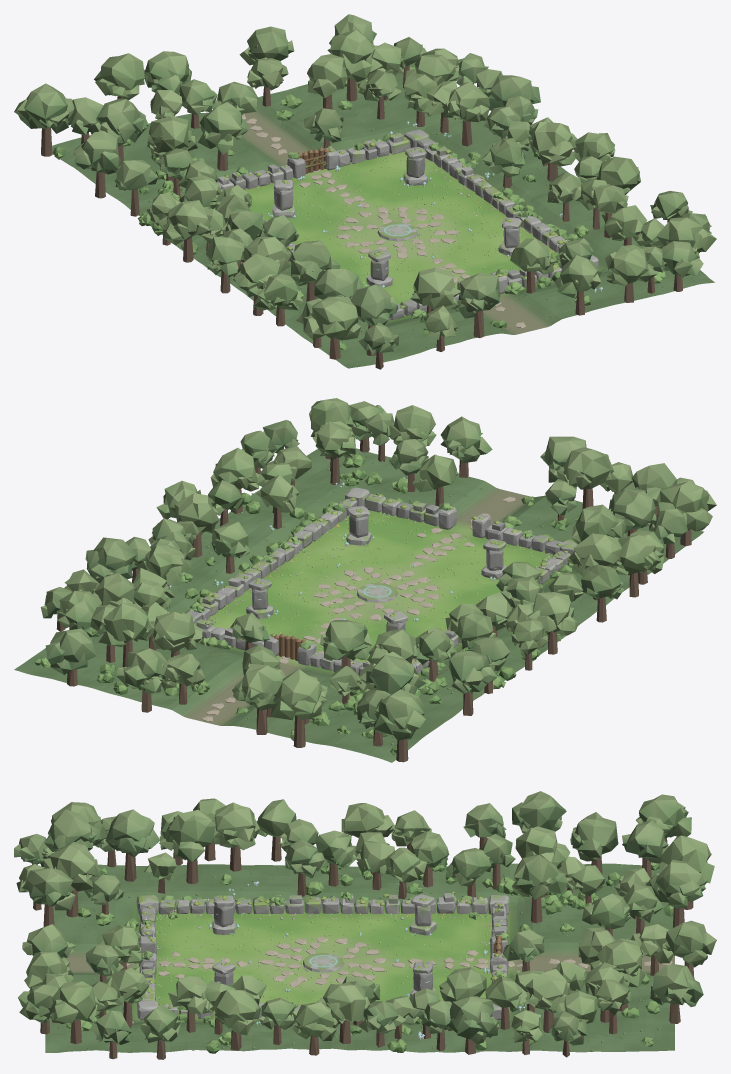
Rendered from mossy_glade_boss_roblox.glb.
3 renders of one model, top to bottom at view 1: azimuth 30°, elevation 25°; view 2: azimuth 150°, elevation 25°; view 3: azimuth 270°, elevation 25°, orthographic. The views are drawn at different scales.
Visible parts, largest first — view 1: Trees, Ground, Walls, Bushes, Grass, Props; view 2: Trees, Ground, Walls, Bushes, Grass, Props; view 3: Trees, Ground, Walls, Bushes, Grass, Groundcover.
Part boxes in pixels (bbox=[...]): Trees: bbox=[14, 14, 716, 369]; Ground: bbox=[52, 63, 714, 368]; Walls: bbox=[217, 129, 598, 321]; Bushes: bbox=[52, 66, 665, 350]; Grass: bbox=[148, 93, 663, 364]; Props: bbox=[268, 123, 601, 292]; Trees: bbox=[40, 398, 716, 762]; Ground: bbox=[14, 448, 703, 762]; Walls: bbox=[185, 487, 577, 675]; Bushes: bbox=[34, 454, 664, 755]; Grass: bbox=[65, 456, 649, 744]; Props: bbox=[169, 484, 494, 660]; Trees: bbox=[14, 791, 716, 1059]; Ground: bbox=[45, 863, 674, 1052]; Walls: bbox=[136, 891, 509, 1020]; Bushes: bbox=[66, 861, 673, 1053]; Grass: bbox=[49, 867, 659, 1052]; Groundcover: bbox=[145, 895, 502, 1005].
Bounding box in the file's own units: 35.4 × 6.18 × 48.02.
